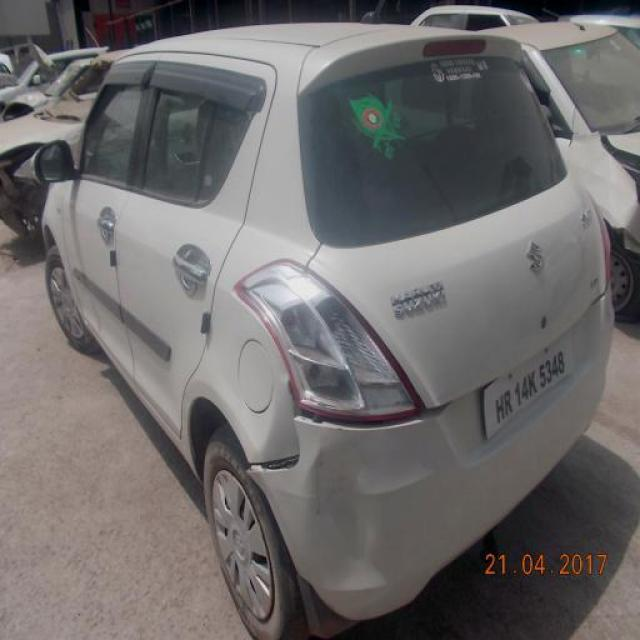car damage: (307, 446, 387, 593), (287, 376, 433, 436), (243, 380, 305, 483), (246, 451, 301, 478)
